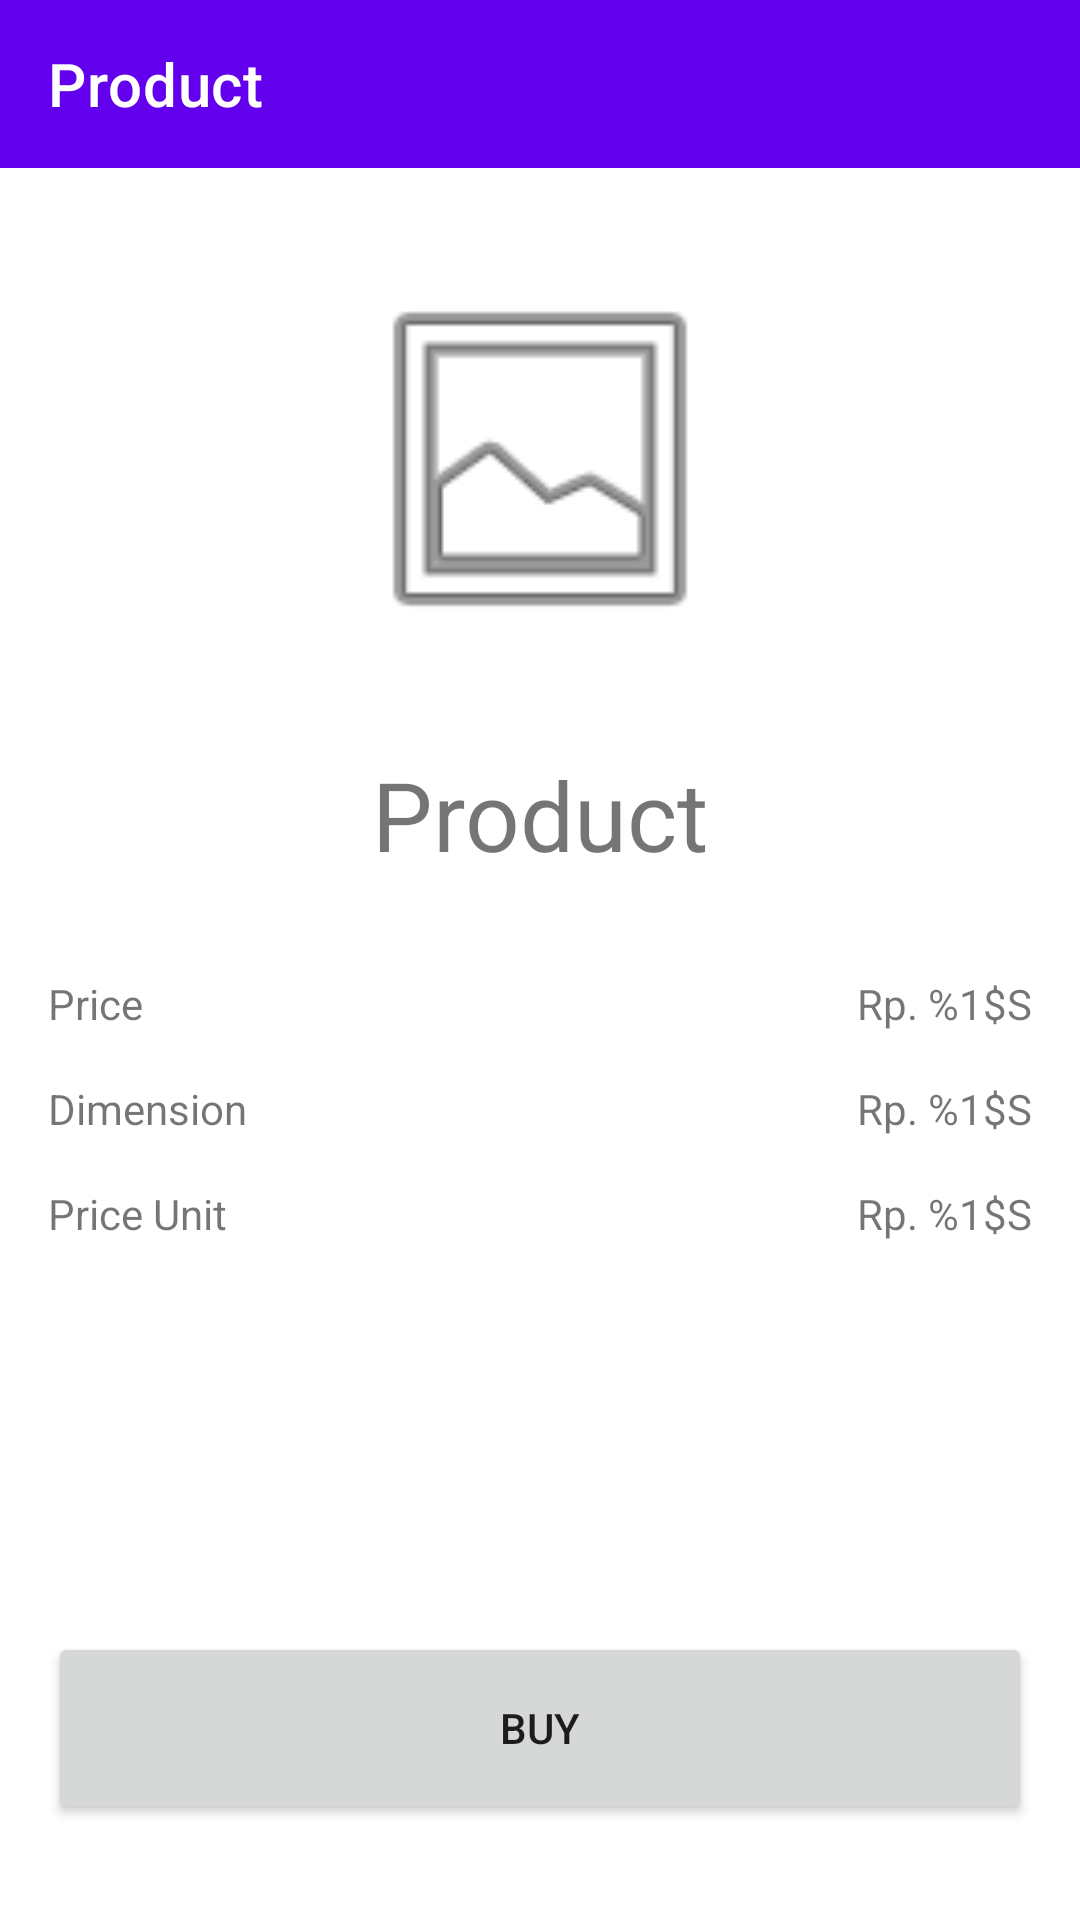

Point at icon controls on the screen. Image size 1080×1920, points as point (x, y).
gallery: point (540, 459)
